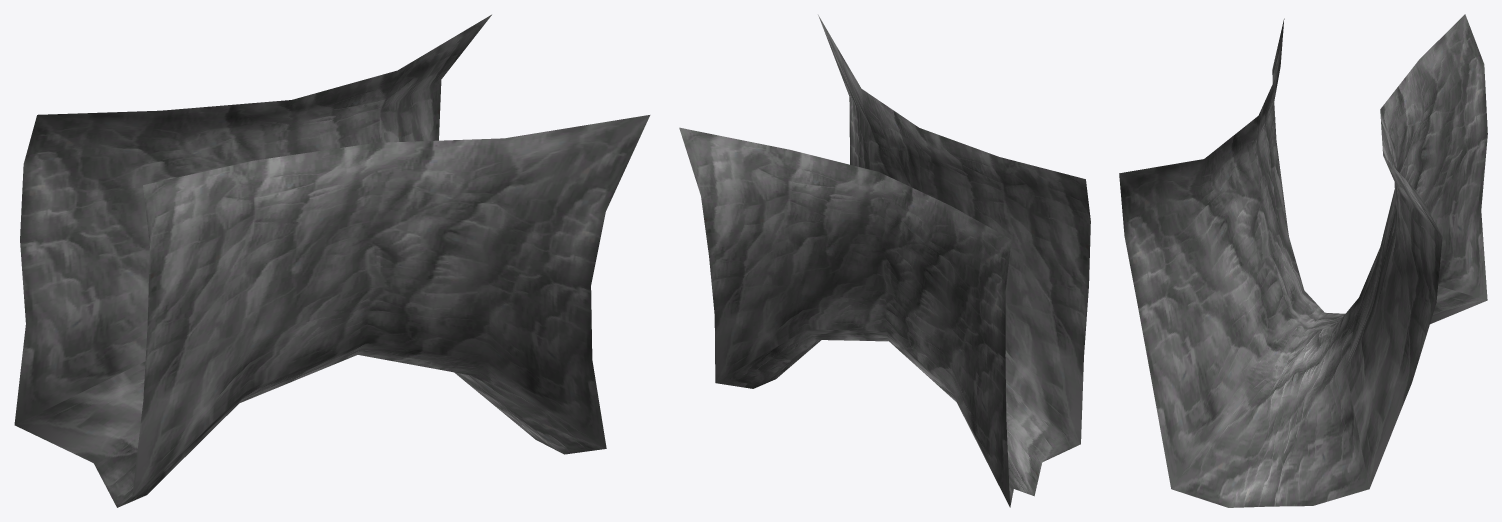
Rendered from SWORDLIGHT20_PS-AREA03_28.fbx.
3 views of the same model, side by side, from view 1: azimuth 30°, elevation 25°; view 2: azimuth 150°, elevation 25°; view 3: azimuth 270°, elevation 25° (orthographic). The views are drawn at different scales.
Parts seen in each view (by area): view 1: SWORDLIGHT20_PS-AREA03_28; view 2: SWORDLIGHT20_PS-AREA03_28; view 3: SWORDLIGHT20_PS-AREA03_28.
Boxes of the visible parts, x1,y1,x2,y2 form: SWORDLIGHT20_PS-AREA03_28: (14,14,650,507); SWORDLIGHT20_PS-AREA03_28: (679,15,1090,507); SWORDLIGHT20_PS-AREA03_28: (1119,14,1487,507).
Size of the model in its own units: 69364 by 59152 by 54562.
Materials: 1 (1 with a texture image).
